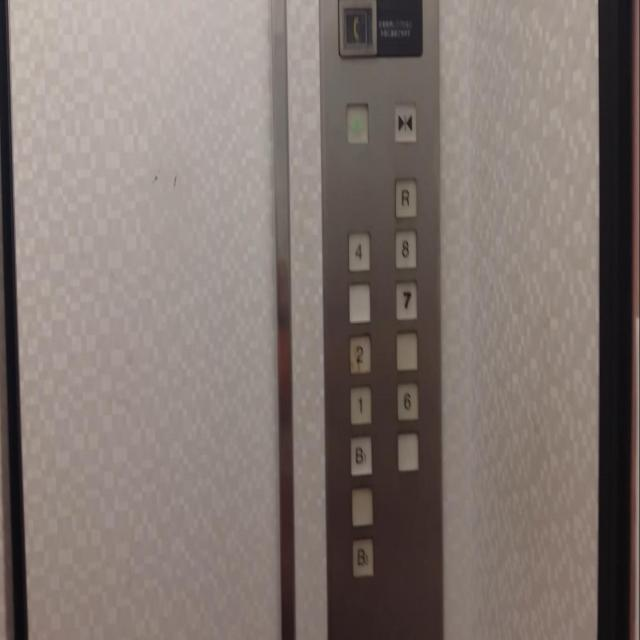1: (350, 383, 372, 425)
2: (348, 332, 371, 375)
4: (348, 231, 370, 271)
6: (396, 381, 419, 422)
7: (395, 277, 418, 320)
8: (394, 228, 418, 270)
B1: (349, 434, 374, 477)
B3: (350, 536, 374, 576)
R: (393, 174, 419, 221)
call: (344, 3, 371, 46)
close: (393, 99, 417, 142)
empty: (347, 282, 372, 323), (395, 329, 418, 372), (351, 484, 374, 527), (397, 431, 420, 472)
open: (344, 100, 371, 145)
